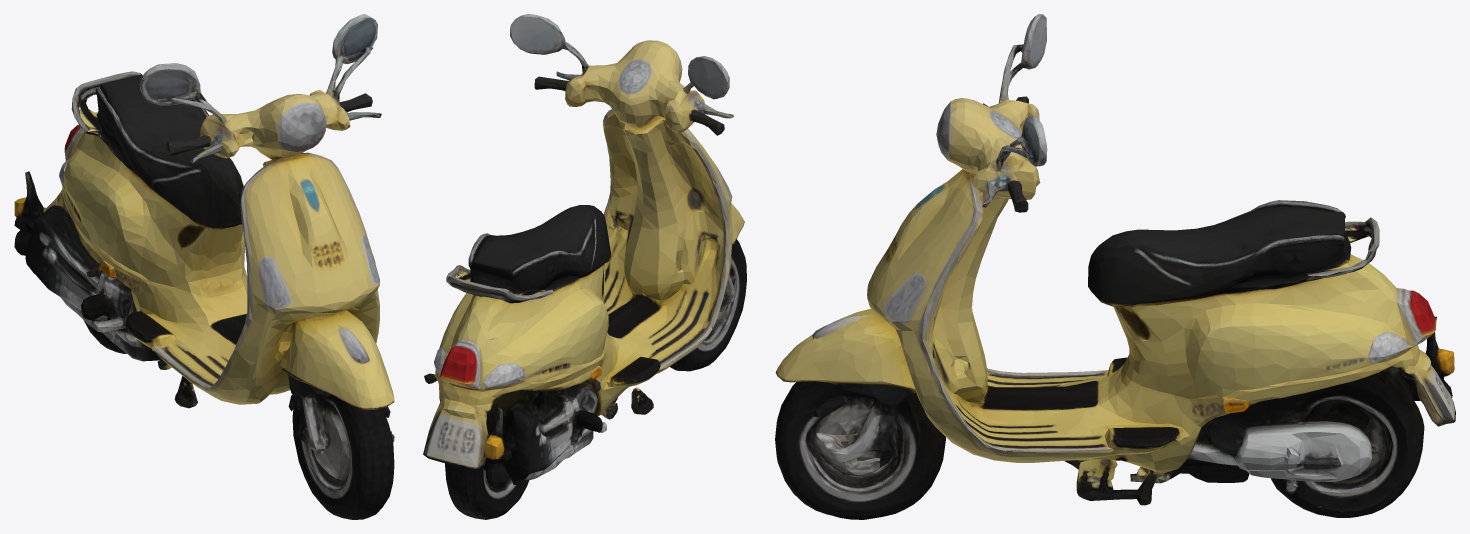
File: VESPA VXL 150.glb
3 renders of one model, left to right at view 1: azimuth 30°, elevation 25°; view 2: azimuth 150°, elevation 25°; view 3: azimuth 270°, elevation 25°, orthographic. The views are drawn at different scales.
Visible parts, largest first — view 1: world; view 2: world; view 3: world.
Part boxes in pixels (x1,y1,x2,y2): world: [14, 14, 394, 519]; world: [423, 14, 746, 519]; world: [775, 14, 1455, 519].
Bounding box in the file's own units: 0.4352 × 0.7278 × 1.
Materials: 1 (1 with a texture image).
